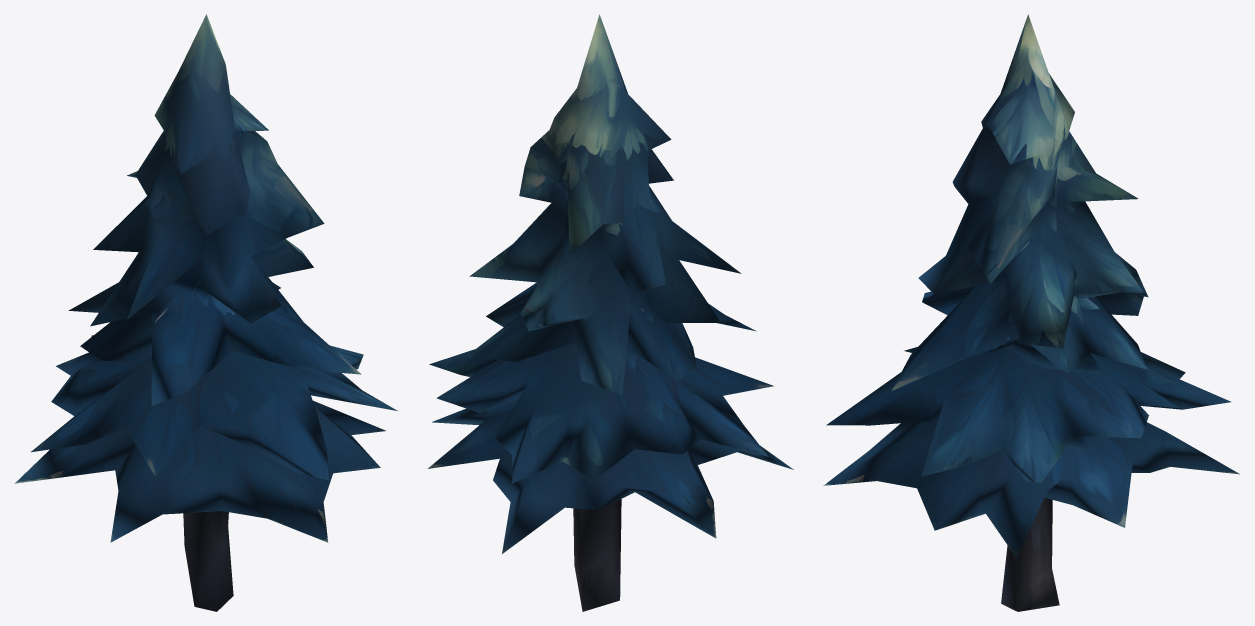
Rendered from cay_tron_a.glb.
The picture shows the model from 3 angles, left to right: view 1: azimuth 30°, elevation 25°; view 2: azimuth 150°, elevation 25°; view 3: azimuth 270°, elevation 25°; orthographic projection.
Visible parts, largest first — view 1: tripo_node_abc98c85-fc2e-44ed-8f52-b5c1773a9067; view 2: tripo_node_abc98c85-fc2e-44ed-8f52-b5c1773a9067; view 3: tripo_node_abc98c85-fc2e-44ed-8f52-b5c1773a9067.
Boxes of the visible parts, x1=… form: tripo_node_abc98c85-fc2e-44ed-8f52-b5c1773a9067: x1=15, y1=14, x2=397, y2=611; tripo_node_abc98c85-fc2e-44ed-8f52-b5c1773a9067: x1=428, y1=14, x2=793, y2=611; tripo_node_abc98c85-fc2e-44ed-8f52-b5c1773a9067: x1=823, y1=14, x2=1239, y2=611.
Bounding box in the file's own units: 0.6083 × 0.983 × 0.6294.
1 material, 1 textured.
